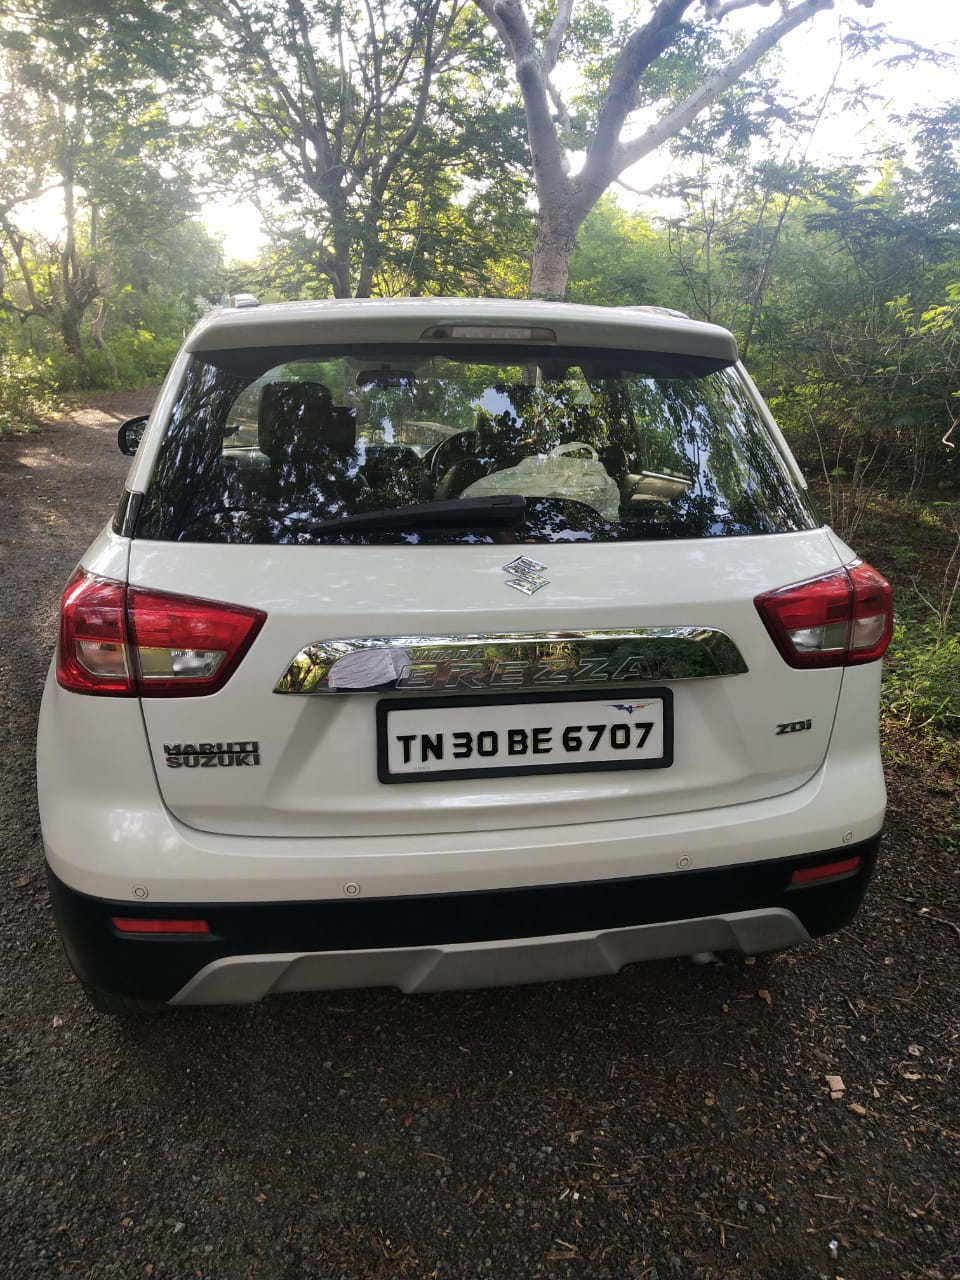numberplate: (375, 694, 677, 776)
